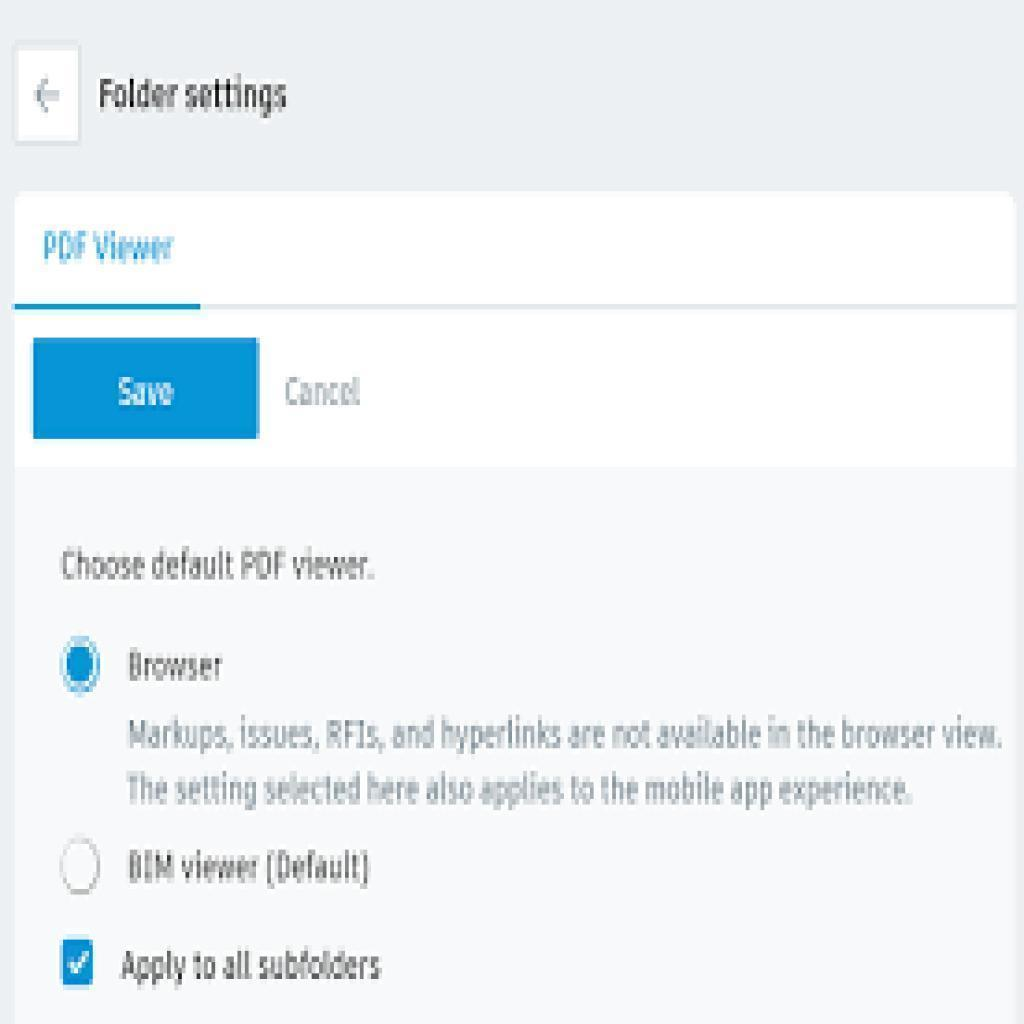button: (31, 339, 259, 439)
checkbox: (61, 938, 94, 986)
icon: (31, 74, 66, 116)
label: (123, 837, 385, 896), (54, 546, 383, 590), (119, 943, 386, 991), (94, 76, 294, 119), (123, 641, 229, 693), (281, 371, 366, 411)
radio: (60, 634, 101, 700), (61, 837, 103, 895)
